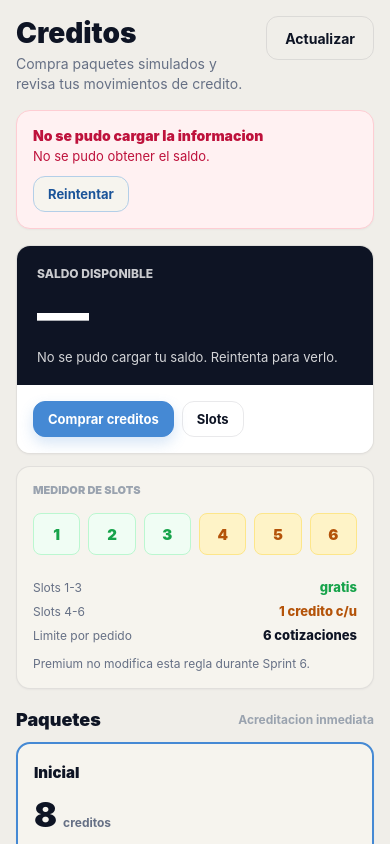
CreditosScreen — saldo › Reintentar vuelve a pedir los datos y muestra el saldo real sin tocar compras ni Premium
The width and height of the screenshot is (390, 844).
Expected: the text "No se pudo obtener el saldo." is shown, left=33, top=148, right=210, bottom=164
What coordinates should you click on to do the following:
click the text "Reintentar"
I would click on:
 (81, 194)
Its box is left=48, top=186, right=114, bottom=202.
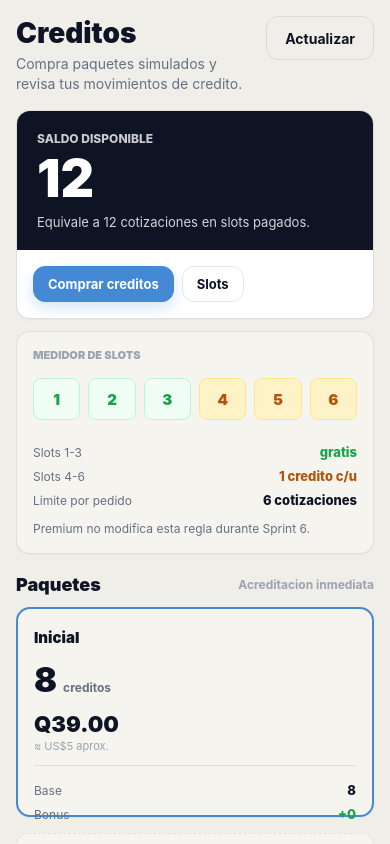
Expected: the text "Equivale a 12 cotizaciones en slots pagados." is shown, left=37, top=214, right=353, bottom=230
Expected: the text "No se pudo obtener el saldo." is gone
Expected: the text "Reintentar" is gone
